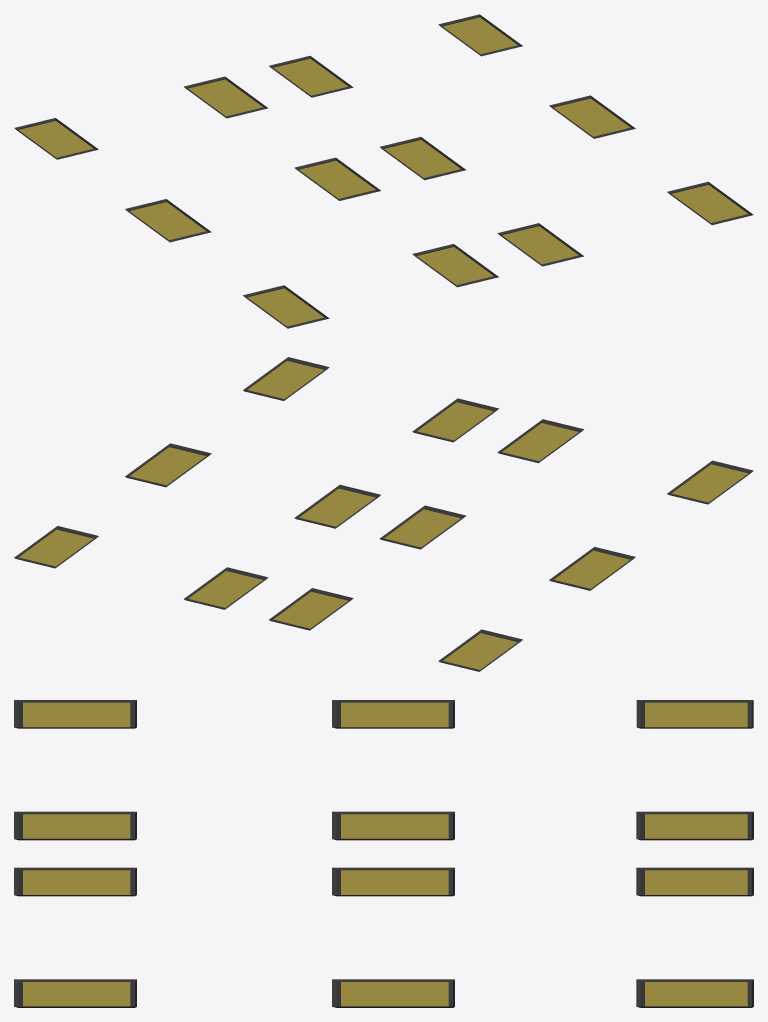
Rendered from CeilingLight2.fbx.
The picture shows the model from 3 angles, top to bottom: view 1: azimuth 30°, elevation 25°; view 2: azimuth 150°, elevation 25°; view 3: azimuth 270°, elevation 25°; orthographic projection. The views are drawn at different scales.
Parts seen in each view (by area): view 1: CeilingLight2; view 2: CeilingLight2; view 3: CeilingLight2.
Part boxes in pixels (x1,y1,x2,y2): CeilingLight2: (14, 14, 753, 328); CeilingLight2: (14, 357, 753, 671); CeilingLight2: (14, 700, 753, 1007).
Size of the model in its own units: 1206 by 3.46 by 1229.
